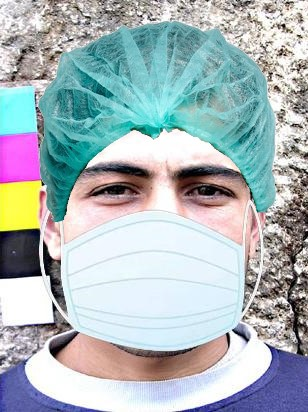with_mask_and_cap: (39, 23, 273, 346)
